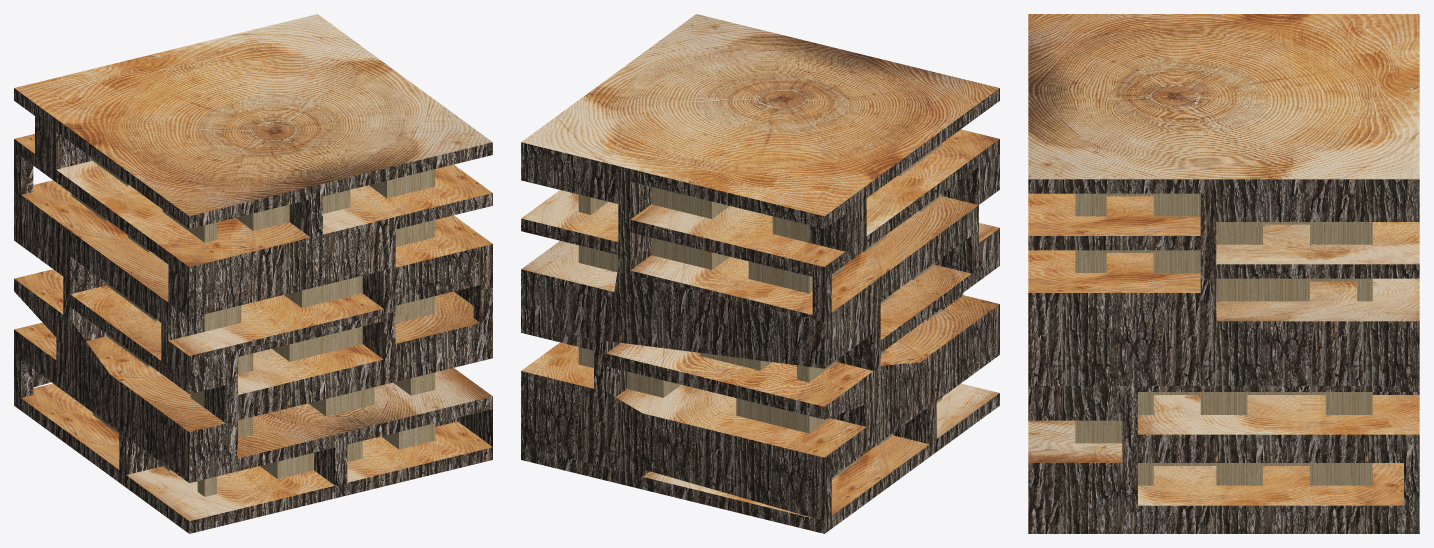
Rendered from Маркорн2.0 (2).fbx.
3 renders of one model, left to right at view 1: azimuth 30°, elevation 25°; view 2: azimuth 150°, elevation 25°; view 3: azimuth 270°, elevation 25°, orthographic. The views are drawn at different scales.
Parts seen in each view (by area): view 1: Маркорн.003, Маркорн, Маркорн.001; view 2: Маркорн.003, Маркорн, Маркорн.001; view 3: Маркорн.003, Маркорн, Маркорн.001.
Part boxes in pixels (x1,y1,x2,y2): Маркорн.003: [14, 14, 492, 521]; Маркорн: [14, 88, 492, 533]; Маркорн.001: [71, 158, 435, 496]; Маркорн.003: [521, 14, 999, 518]; Маркорн: [521, 88, 999, 533]; Маркорн.001: [578, 143, 942, 479]; Маркорн.003: [1028, 14, 1419, 505]; Маркорн: [1028, 179, 1419, 533]; Маркорн.001: [1075, 193, 1372, 485].
Bounding box in the file's own units: 250 × 250 × 250.
